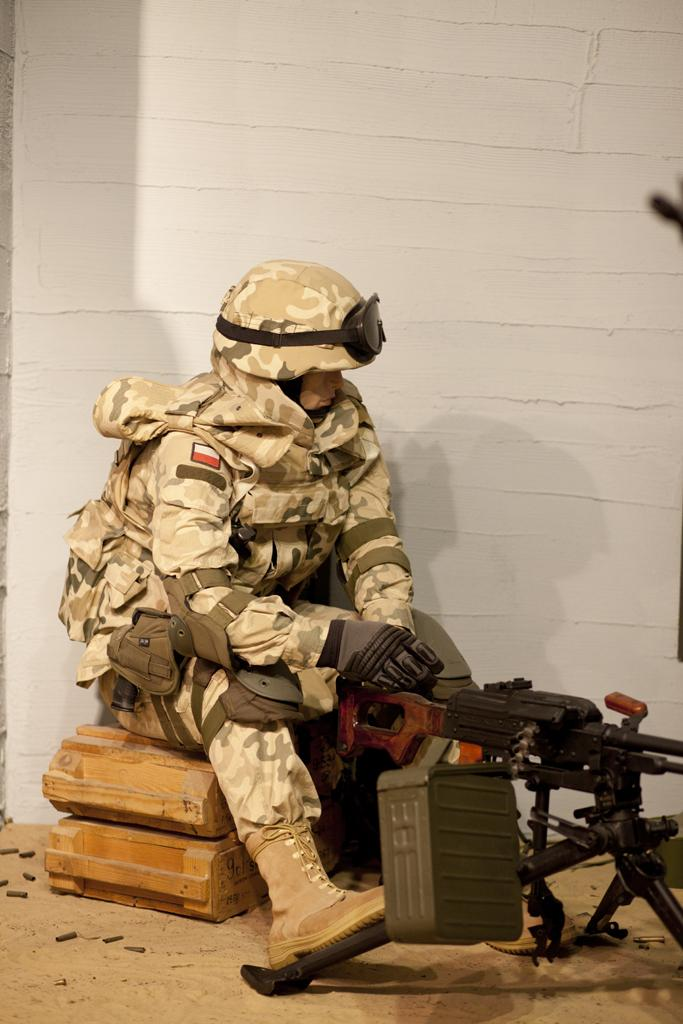Rifle: (333, 677, 682, 943)
